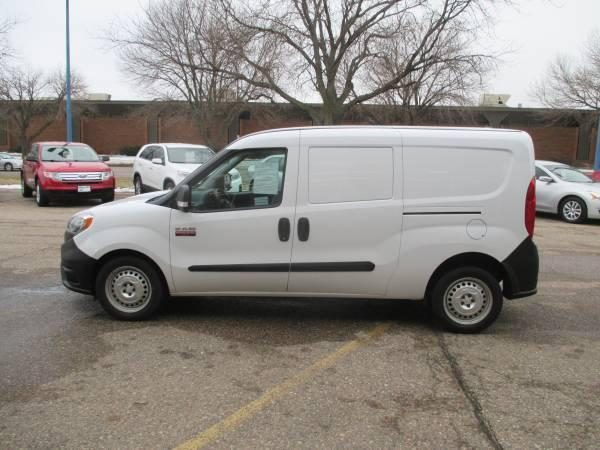Front_Bumper: (58, 237, 98, 293)
Front_Fender: (73, 205, 176, 294)
Front_Left_Door: (168, 208, 293, 296)
Front_Left_Window: (171, 146, 298, 212)
Left_Headlight: (64, 213, 94, 243)
Left_Taillight: (524, 176, 535, 240)
Rear_Bumper: (502, 237, 538, 299)
Rear_Fender: (385, 147, 530, 299)
Rear_Left_Door: (287, 198, 403, 297)
Rear_Left_Window: (296, 146, 403, 207)
Roof: (164, 125, 532, 203)
Wheel: (431, 263, 504, 336), (95, 256, 163, 321)
